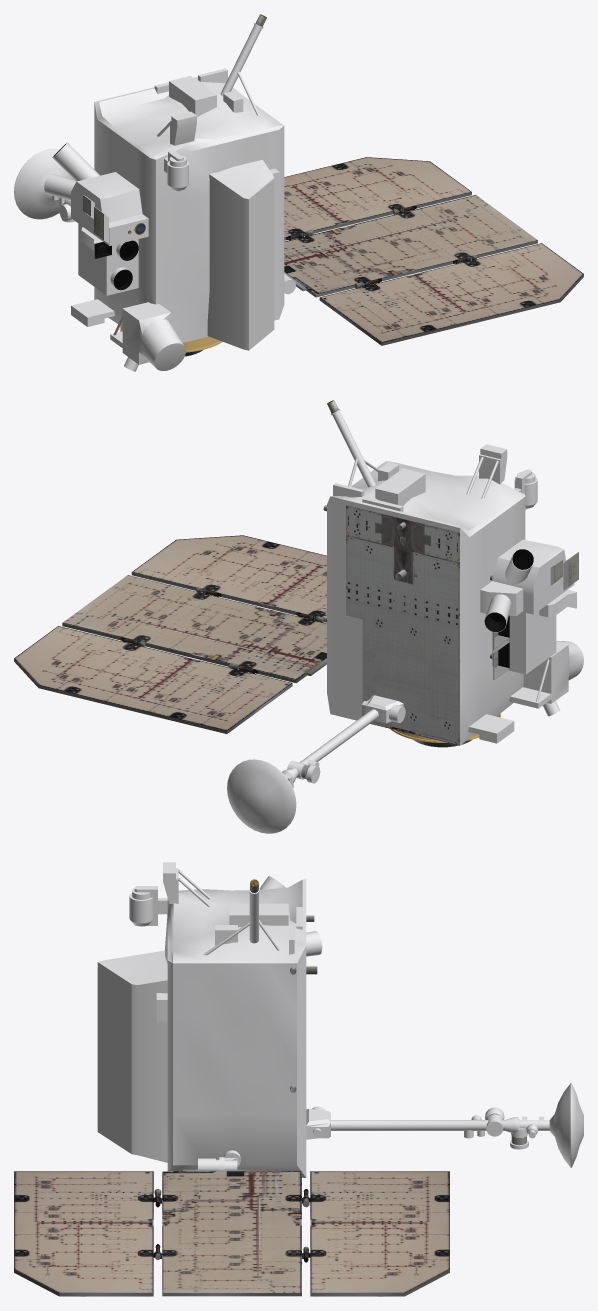
File: lro.glb
3 views of the same model, one above another, from view 1: azimuth 30°, elevation 25°; view 2: azimuth 150°, elevation 25°; view 3: azimuth 270°, elevation 25° (orthographic). The views are drawn at different scales.
Parts seen in each view (by area): view 1: foil_silver, tex, dark_black; view 2: foil_silver, tex, panel, dark_black; view 3: foil_silver, tex, dark_black.
Part boxes in pixels (box(x1,y1,x2,y2)): foil_silver: box(14, 22, 295, 371); tex: box(284, 157, 583, 342); dark_black: box(53, 14, 583, 356); foil_silver: box(227, 409, 583, 833); tex: box(14, 535, 326, 730); panel: box(346, 505, 459, 745); dark_black: box(14, 400, 578, 778); foil_silver: box(97, 862, 583, 1177); tex: box(14, 1171, 449, 1292); dark_black: box(14, 879, 526, 1296).
Size of the model in its own units: 5.45 by 3.66 by 5.51.
Materials: 5 (3 with a texture image).
